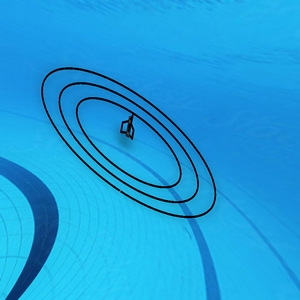circle: (32, 39, 227, 223)
submarine: (120, 116, 138, 139)
